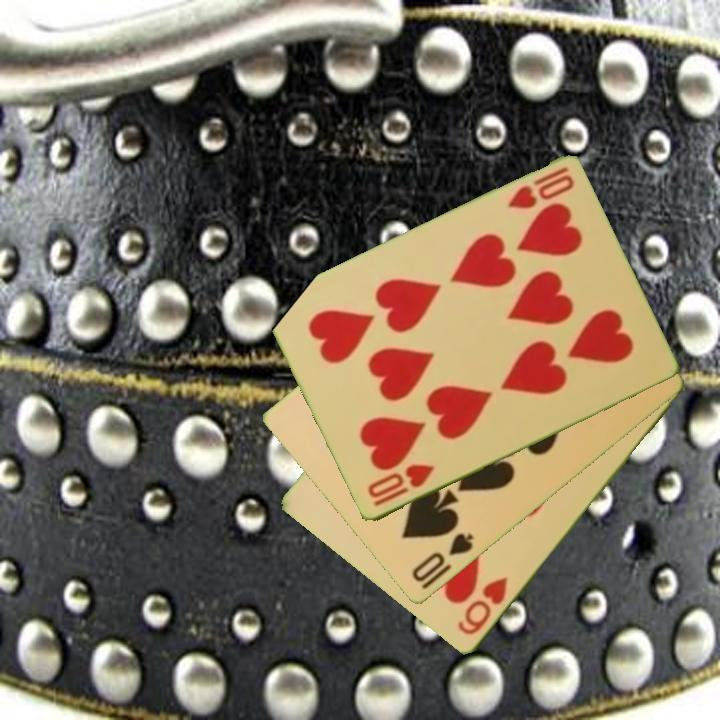10h: (364, 460, 438, 510), (504, 164, 577, 213)
10s: (408, 529, 476, 586)
6h: (454, 574, 511, 639)
